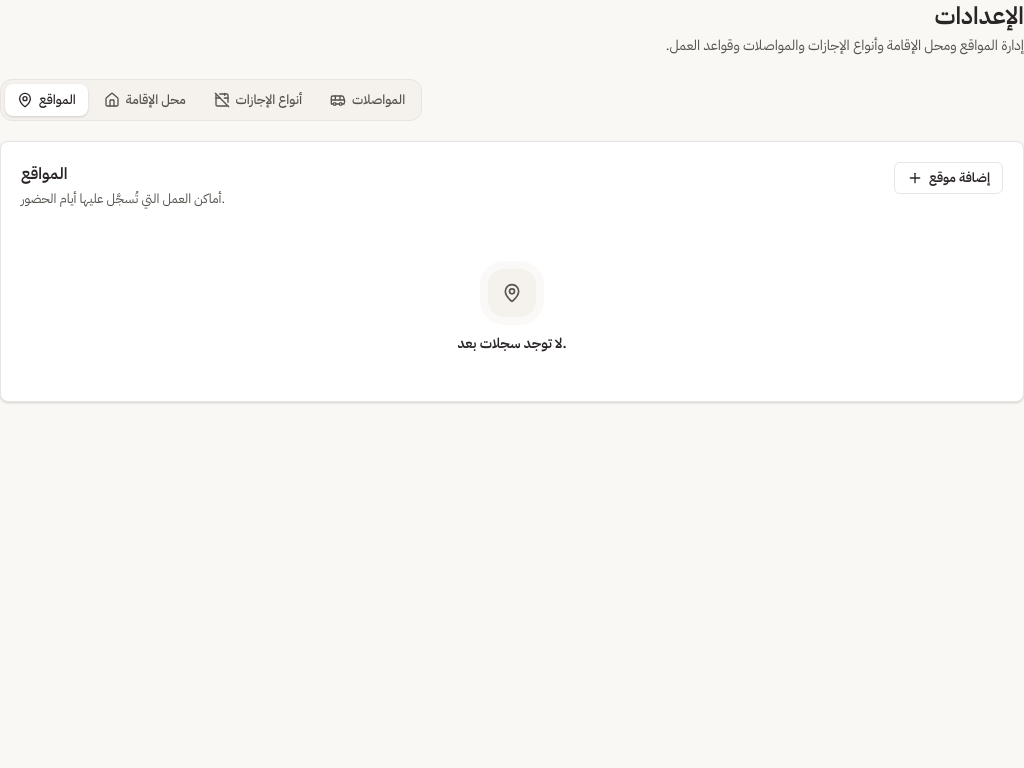
it: site save error shows under the field
The width and height of the screenshot is (1024, 768).
Click the button "إضافة موقع" at (948, 178), box [894,162,1003,194]
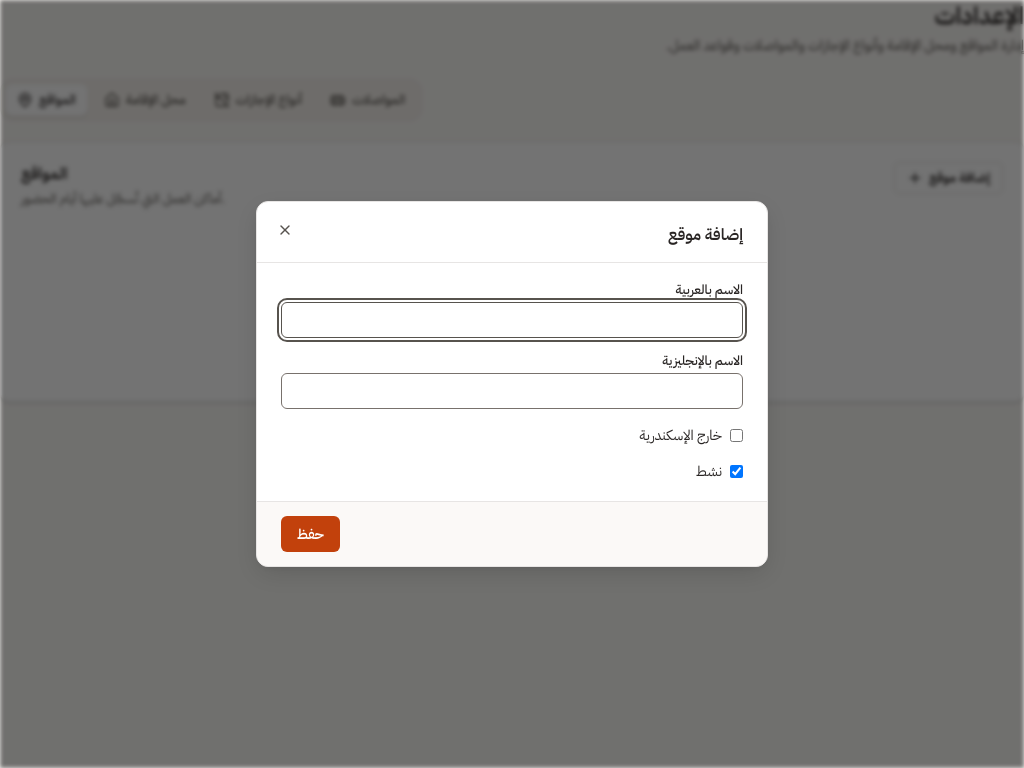
Type "س" into the field labelled "الاسم بالعربية" at (512, 320), box [281,302,743,338]
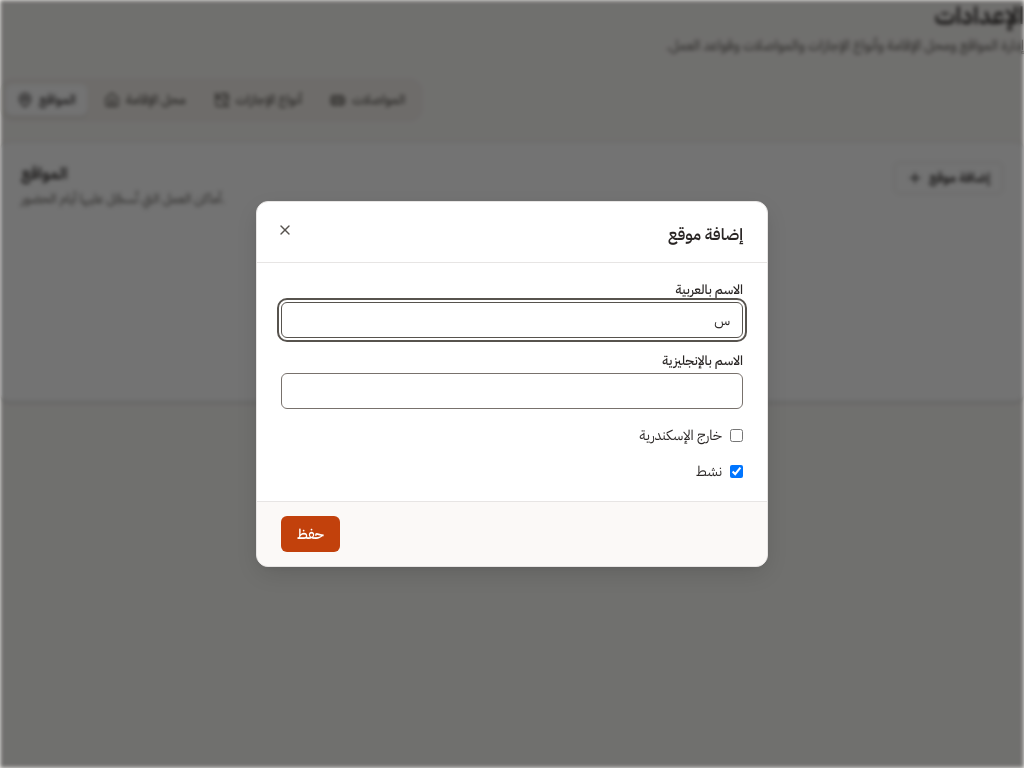
Click the button "حفظ" at (310, 534), box [281,516,340,552]
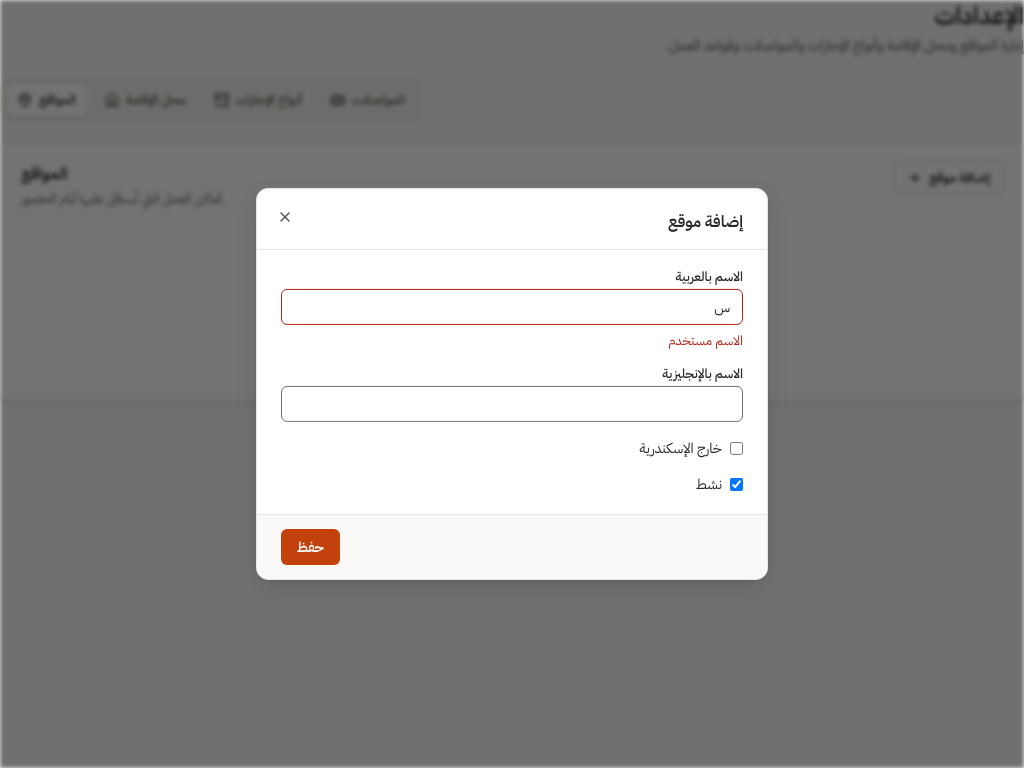
expect the text "الاسم مستخدم" is shown: met, box [668,332,743,349]
